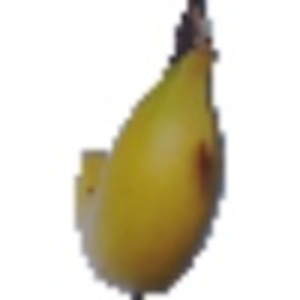banana: (63, 3, 228, 294)
